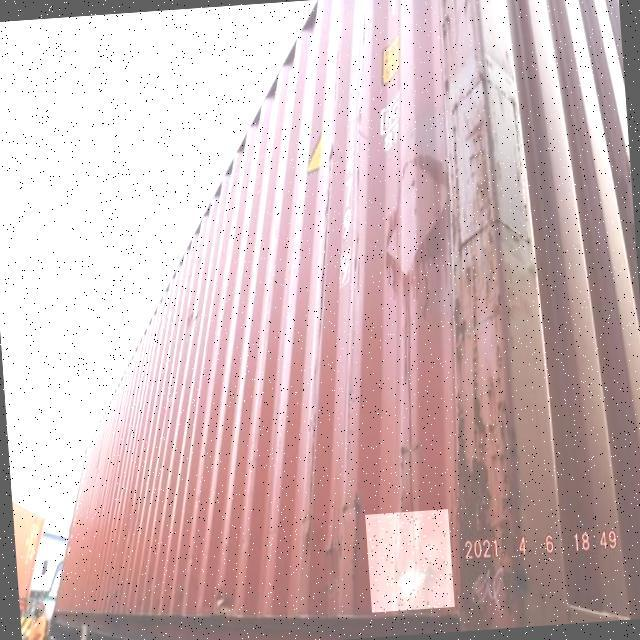Minor-Dent: (365, 509, 455, 615)
